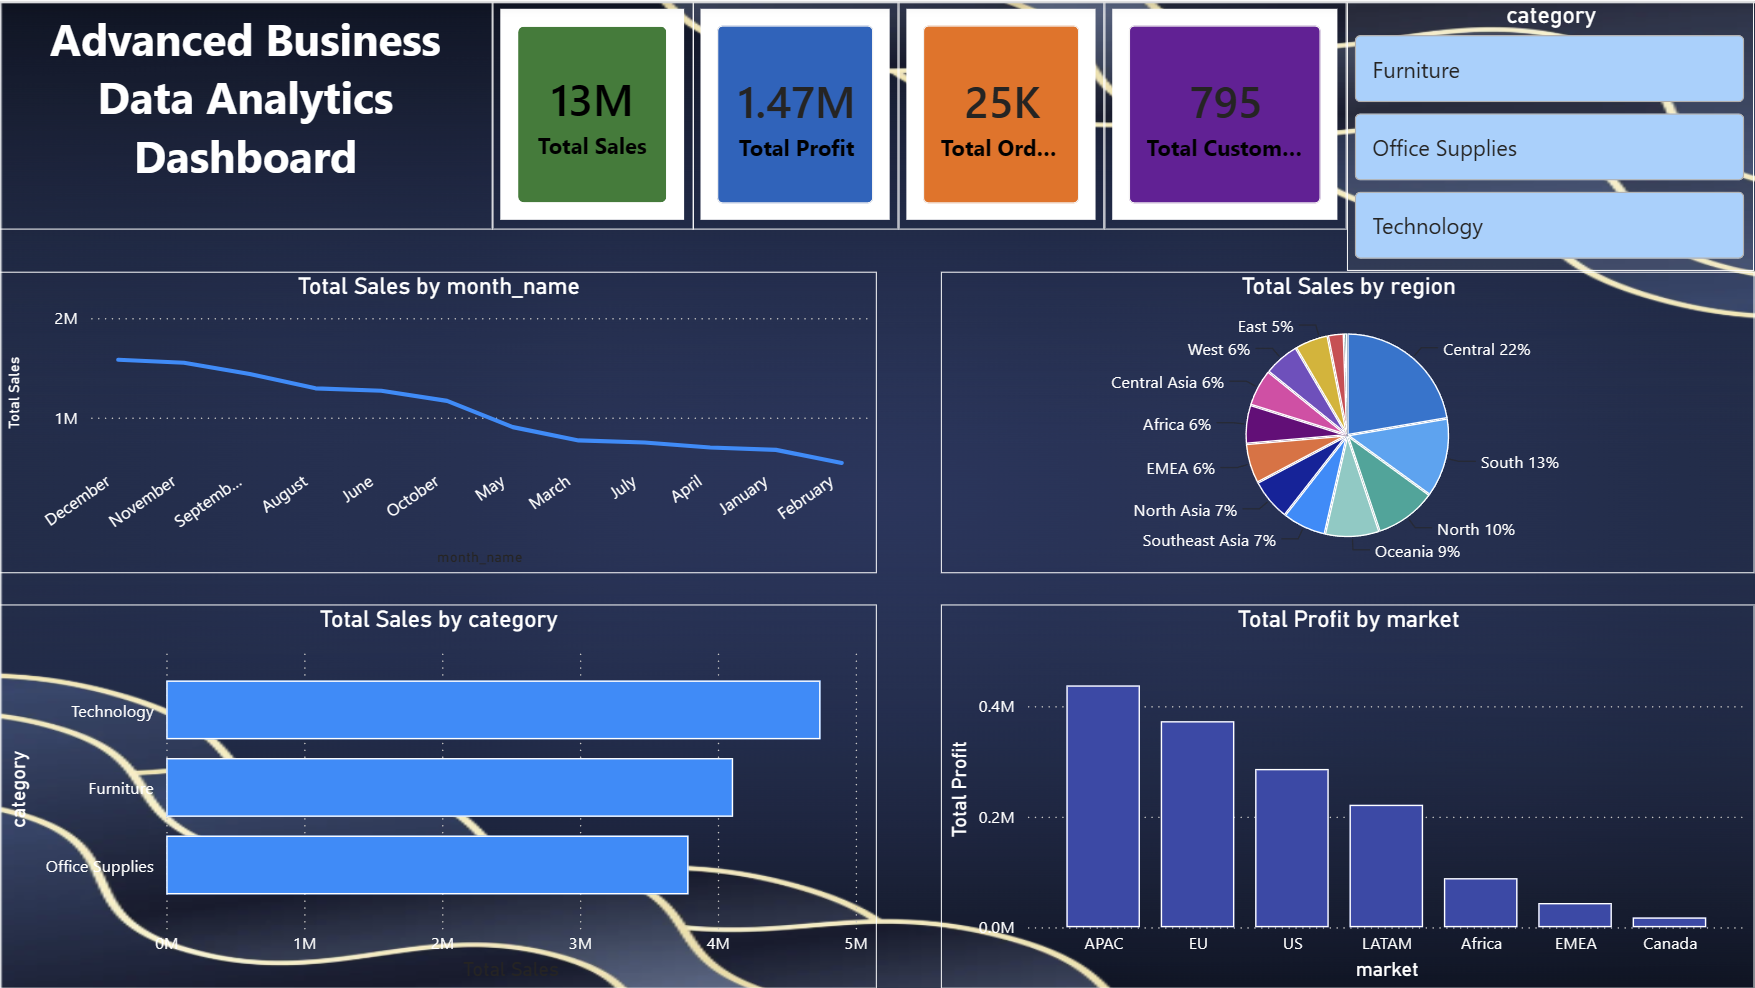

The page's visual inventory and layout, read from the dashboard file:
{"tool":"powerbi","page":{"name":"Page 1","canvas":[1280,720],"ordinal":0},"visuals":[{"type":"textbox","box":[0,0,360,166.7],"z":0},{"type":"cardVisual","fields":{"Data":["cleaned_superstore.Total Sales"]},"box":[360,0,146.7,166.7],"z":1000},{"type":"cardVisual","fields":{"Data":["cleaned_superstore.Total Profit"]},"box":[506.7,0,150,166.7],"z":2000},{"type":"cardVisual","fields":{"Data":["cleaned_superstore.Total Orders"]},"box":[656.7,0,150,166.7],"z":3000},{"type":"cardVisual","fields":{"Data":["cleaned_superstore.Total Customers"]},"box":[806.7,0,176.7,166.7],"z":4000},{"type":"lineChart","fields":{"Y":["cleaned_superstore.Total Sales"],"Category":["cleaned_superstore.month_name"]},"box":[0,196.7,640,220],"z":5000},{"type":"clusteredBarChart","fields":{"Category":["cleaned_superstore.category"],"Y":["cleaned_superstore.Total Sales"]},"box":[0,440,640,280],"z":6000},{"type":"pieChart","fields":{"Category":["cleaned_superstore.region"],"Y":["cleaned_superstore.Total Sales"]},"box":[686.7,196.7,593.3,220],"z":7000},{"type":"lineClusteredColumnComboChart","fields":{"Category":["cleaned_superstore.market"],"Y":["cleaned_superstore.Total Profit"]},"box":[686.7,440,593.3,280],"z":8000},{"type":"advancedSlicerVisual","fields":{"Values":["cleaned_superstore.category"]},"box":[983.3,0,296.7,196.7],"z":9000}]}

Visuals, with their boxes in screenshot pixels (x1, y1, x2, y2), scaled from the page's 1280x720 canvas onto the 1755x988 screenshot:
textbox: select_region(0, 0, 494, 229)
cardVisual - cleaned_superstore.Total Sales: select_region(494, 0, 695, 229)
cardVisual - cleaned_superstore.Total Profit: select_region(695, 0, 900, 229)
cardVisual - cleaned_superstore.Total Orders: select_region(900, 0, 1106, 229)
cardVisual - cleaned_superstore.Total Customers: select_region(1106, 0, 1348, 229)
lineChart - cleaned_superstore.Total Sales x cleaned_superstore.month_name: select_region(0, 270, 878, 572)
clusteredBarChart - cleaned_superstore.category x cleaned_superstore.Total Sales: select_region(0, 604, 878, 987)
pieChart - cleaned_superstore.region x cleaned_superstore.Total Sales: select_region(942, 270, 1754, 572)
lineClusteredColumnComboChart - cleaned_superstore.market x cleaned_superstore.Total Profit: select_region(942, 604, 1754, 987)
advancedSlicerVisual - cleaned_superstore.category: select_region(1348, 0, 1754, 270)
